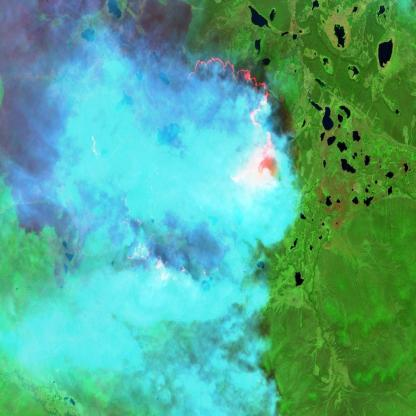fire: (160, 31, 284, 235)
